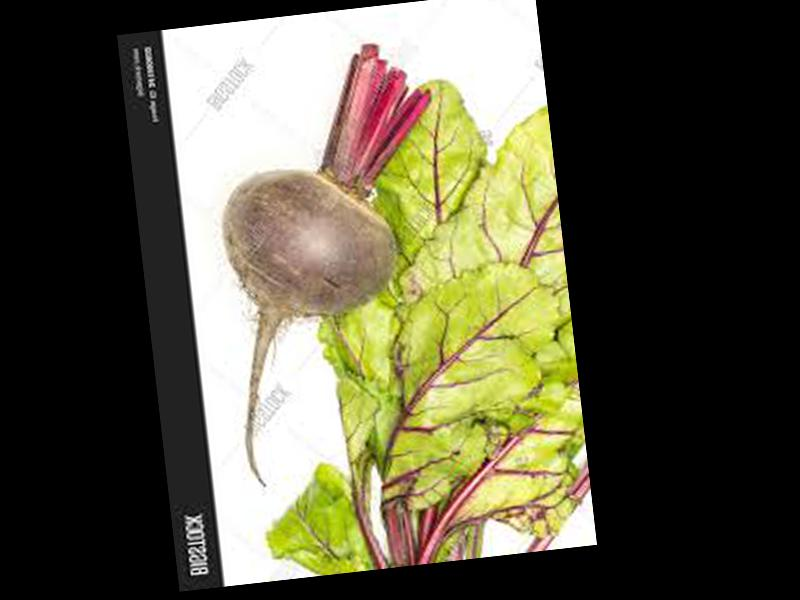Beet: (202, 37, 471, 488)
